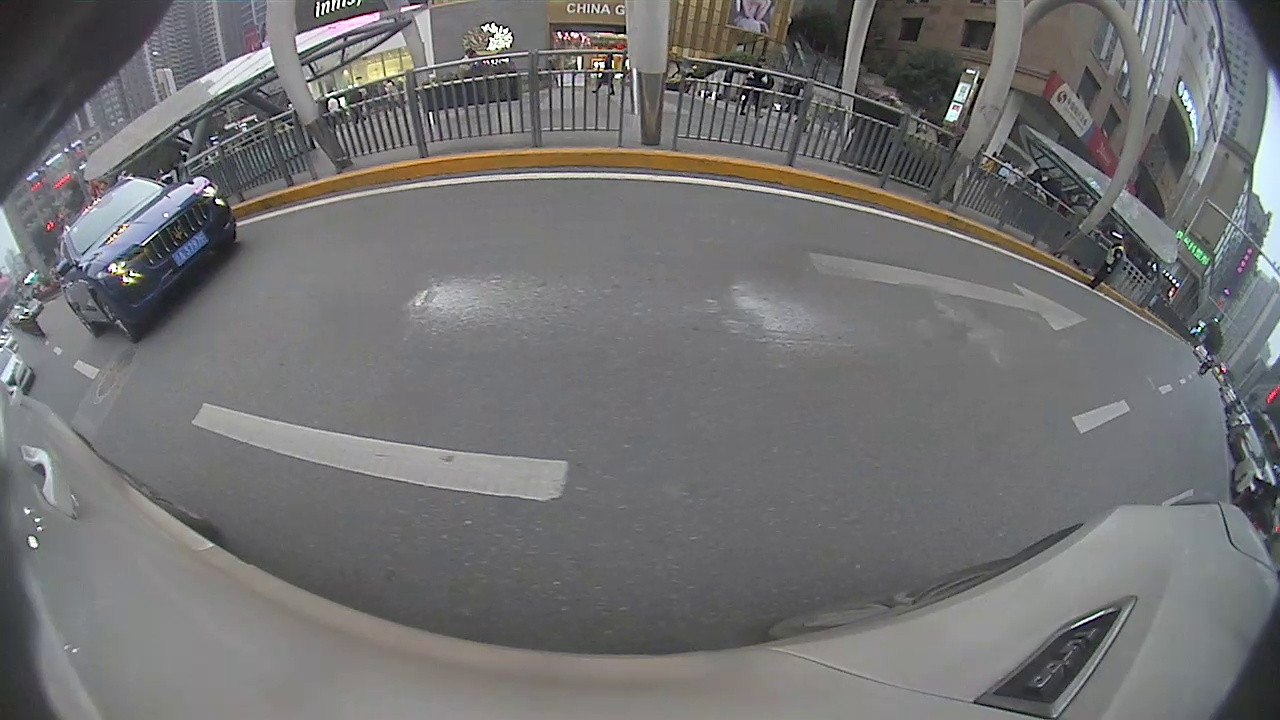car: (55, 177, 238, 343)
front: (93, 291, 137, 345)
